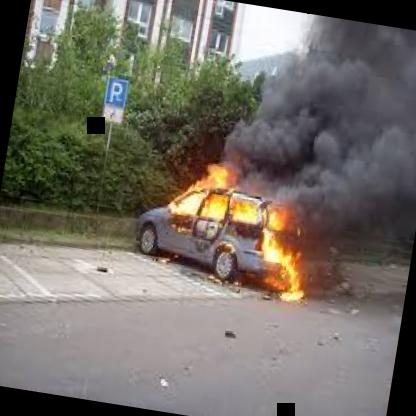fire: (119, 92, 390, 315)
